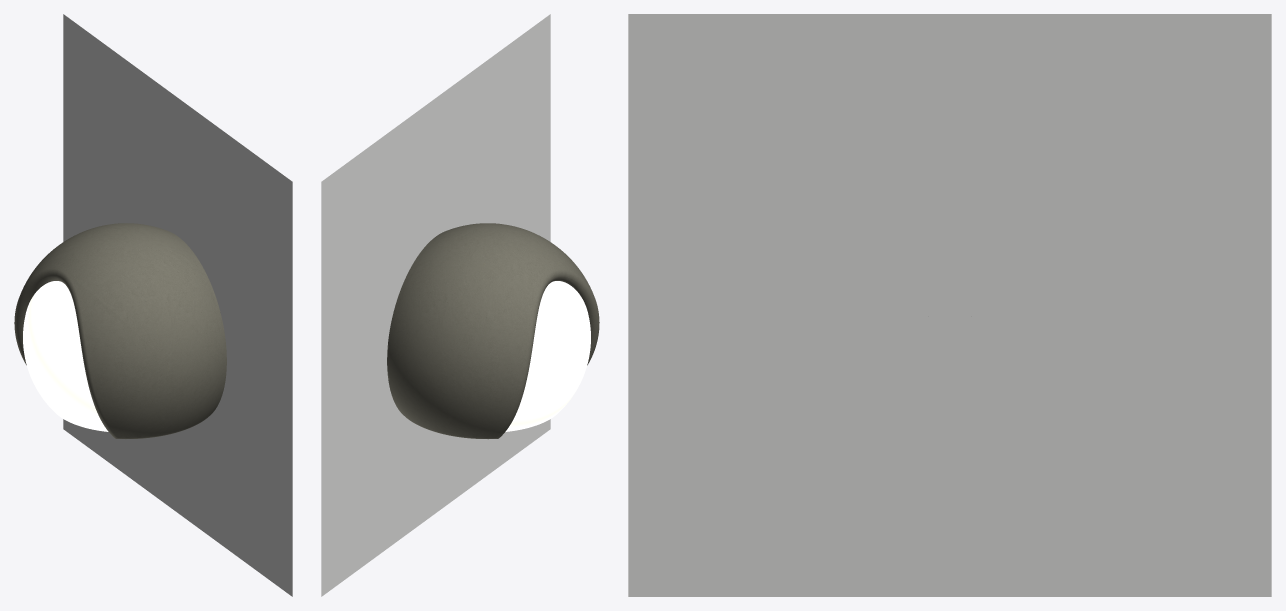
Rendered from opo.glb.
3 views of the same model, side by side, from view 1: azimuth 30°, elevation 25°; view 2: azimuth 150°, elevation 25°; view 3: azimuth 270°, elevation 25° (orthographic). The views are drawn at different scales.
Parts seen in each view (by area): view 1: Holo; view 2: Holo; view 3: Holo.
Part boxes in pixels (x1,y1,x2,y2): Holo: (14, 14, 292, 596); Holo: (321, 14, 599, 596); Holo: (628, 14, 1271, 596).
Bounding box in the file's own units: 0.1067 × 0.3 × 0.3.
Materials: 8 (3 with a texture image).
